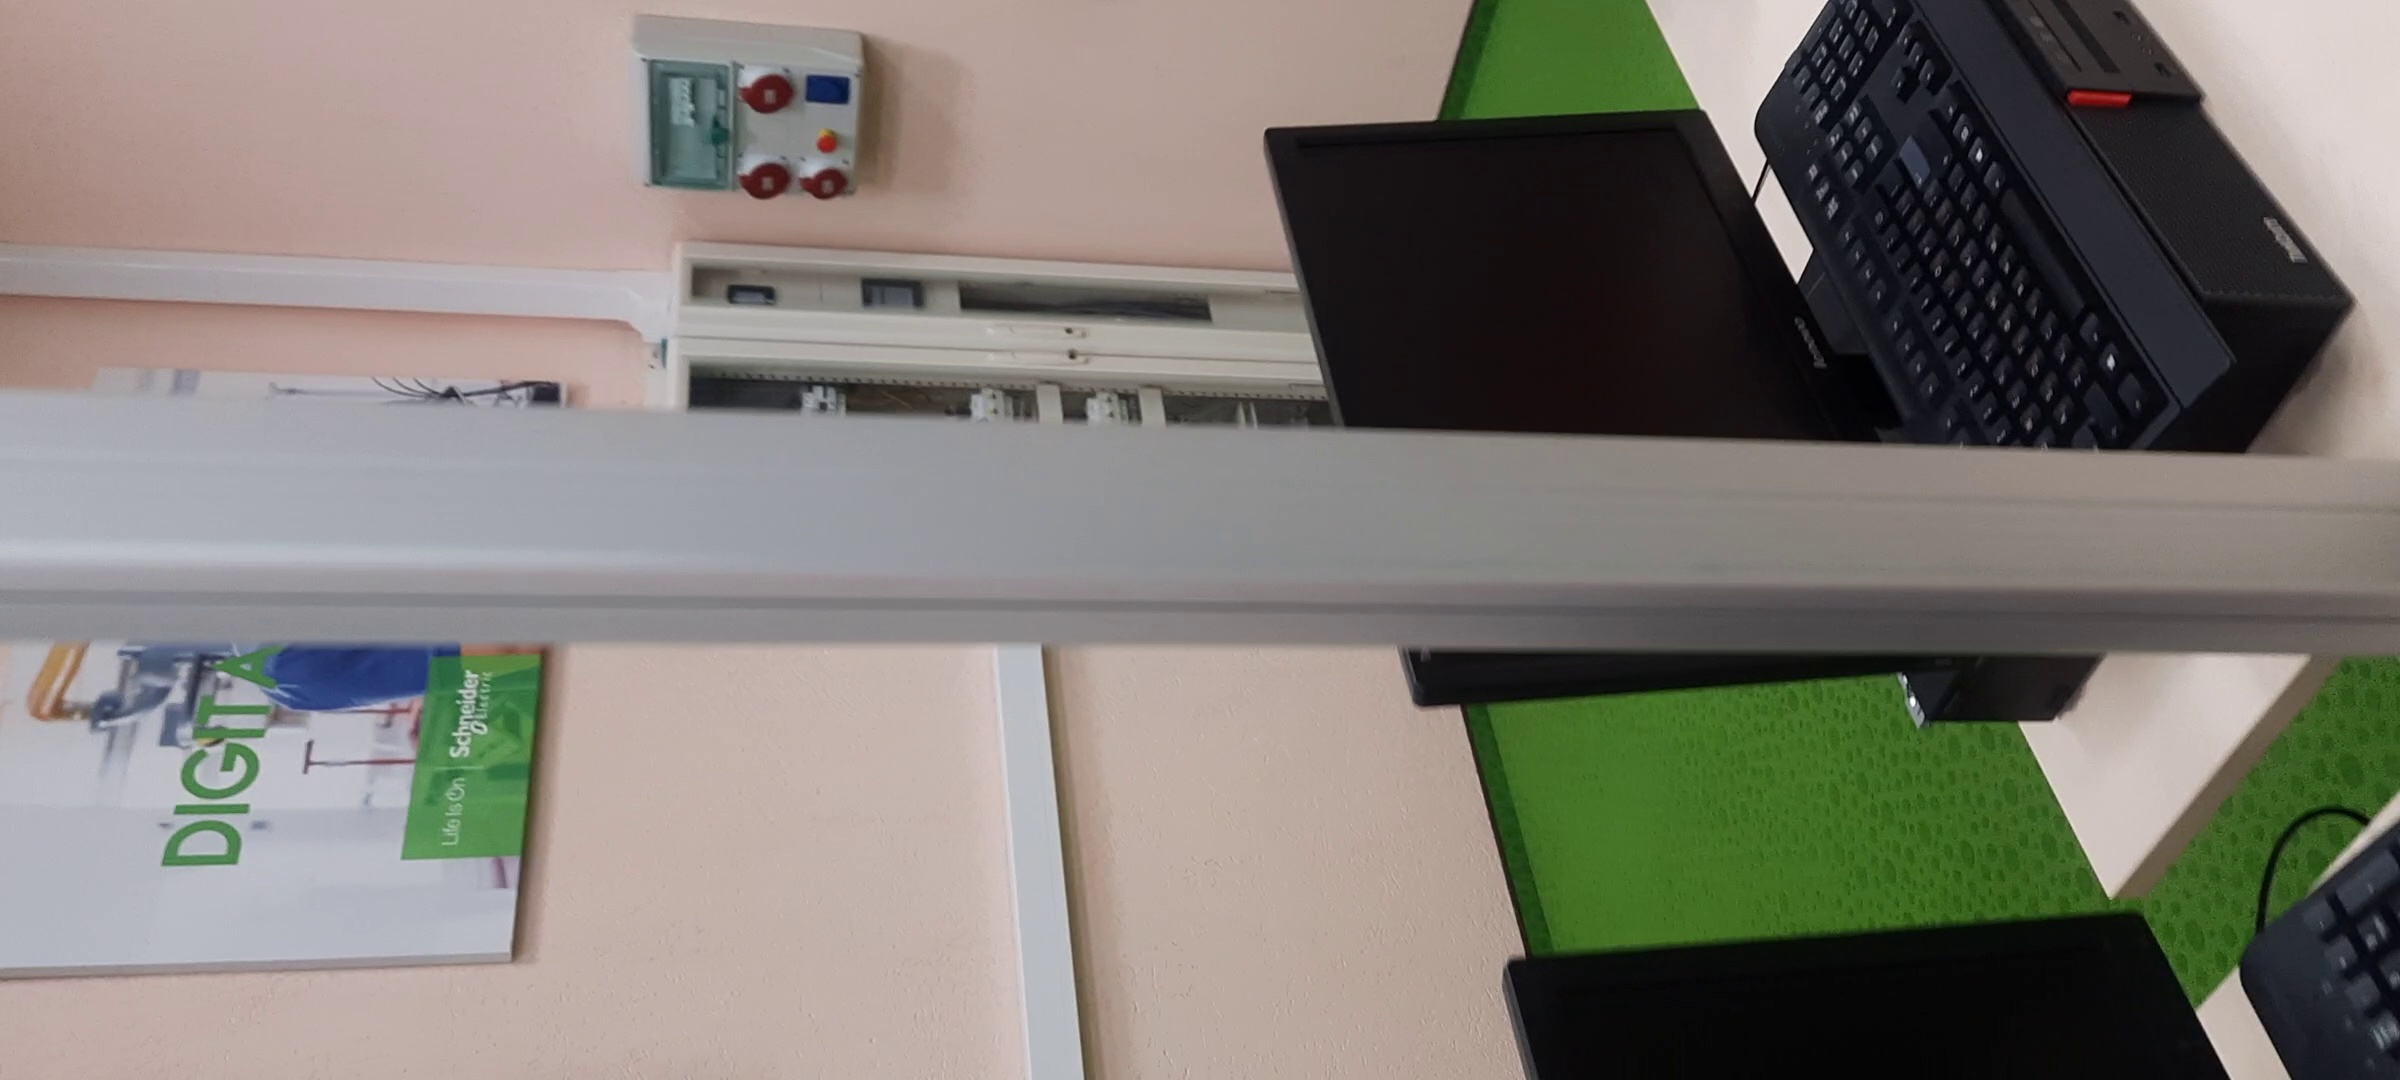stand1: (654, 236, 1344, 428)
